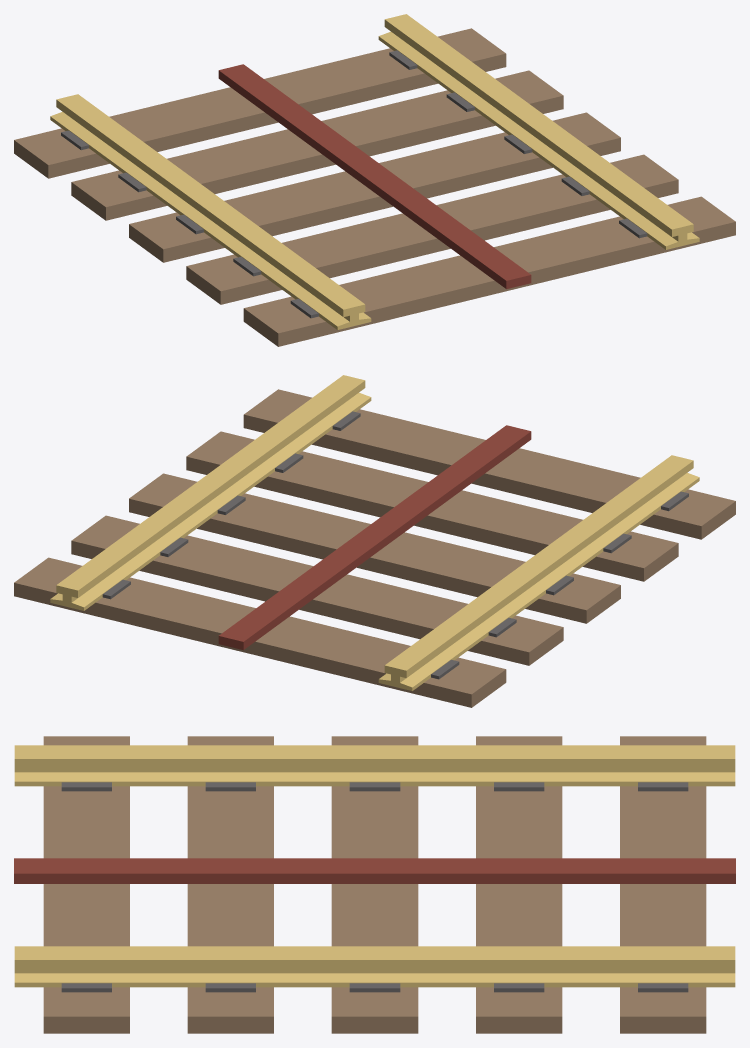
File: powered_rail.gltf
The picture shows the model from 3 angles, top to bottom: view 1: azimuth 30°, elevation 25°; view 2: azimuth 150°, elevation 25°; view 3: azimuth 270°, elevation 25°; orthographic projection. The views are drawn at different scales.
Parts seen in each view (by area): view 1: powered_rail; view 2: powered_rail; view 3: powered_rail.
Part boxes in pixels (x1,y1,x2,y2): powered_rail: (14, 14, 735, 346); powered_rail: (14, 375, 735, 707); powered_rail: (14, 736, 735, 1033).
Size of the model in its own units: 0.92 by 0.0625 by 1.
